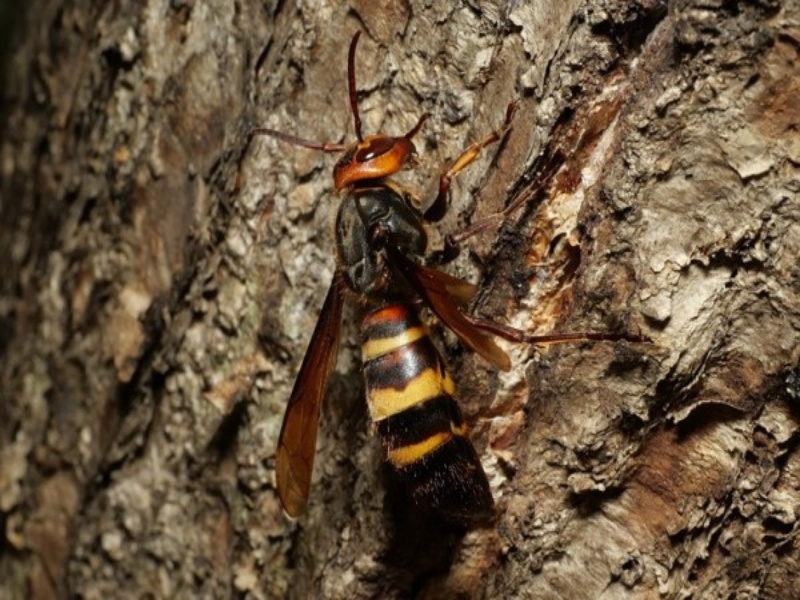asian_giant_hornet: (244, 117, 520, 518)
